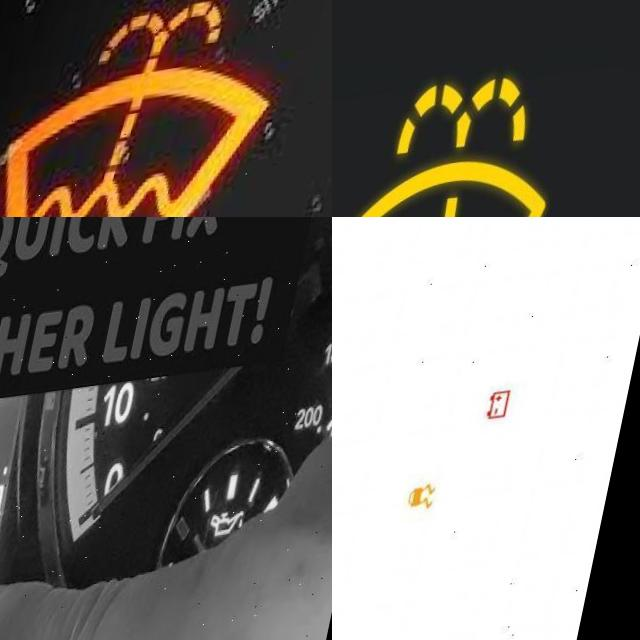Washer Fluid: (0, 0, 299, 217), (338, 76, 585, 217)
